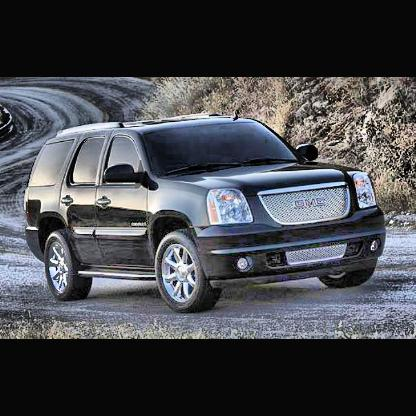GMC Yukon Hybrid SUV 2012: (24, 108, 388, 314)
